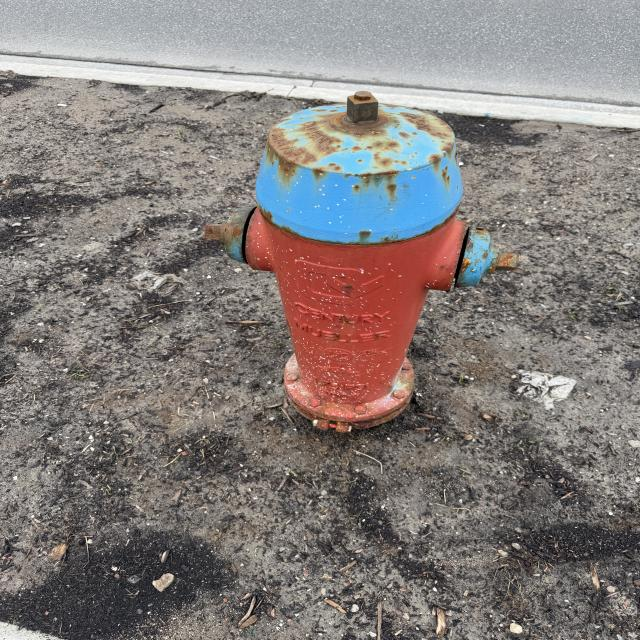Fire hydrant: (203, 91, 520, 431)
